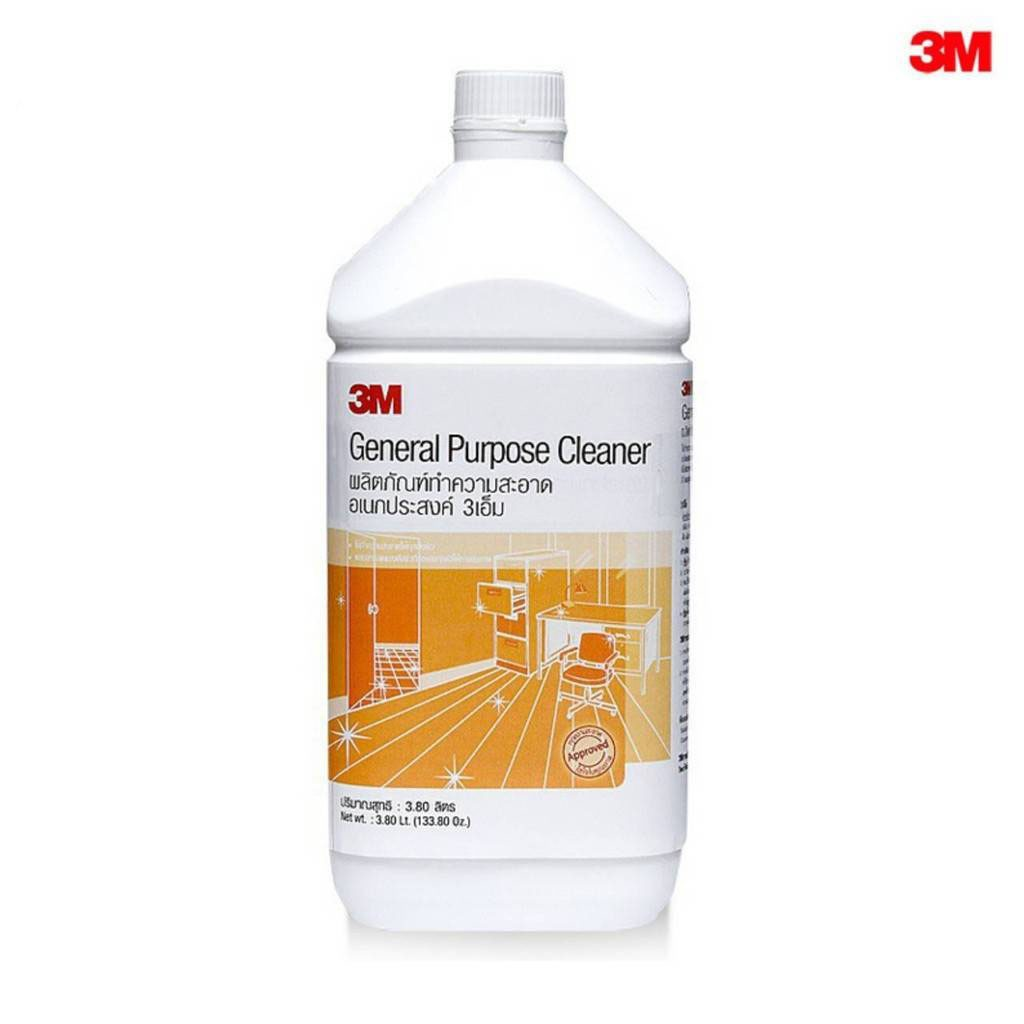Cleaning_solution: (314, 58, 696, 954)
